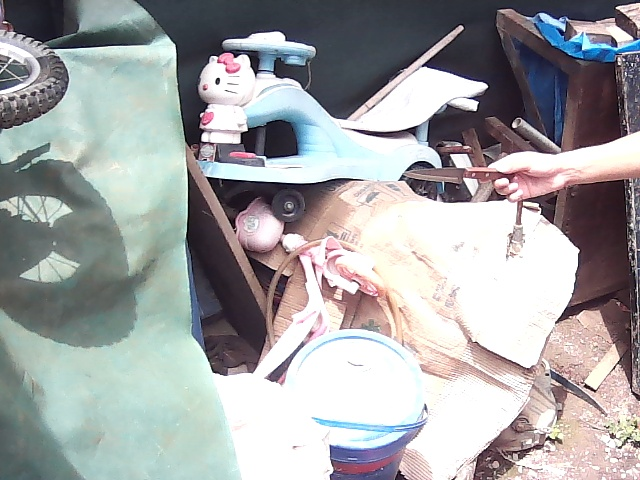cuchillo: (395, 162, 487, 189)
